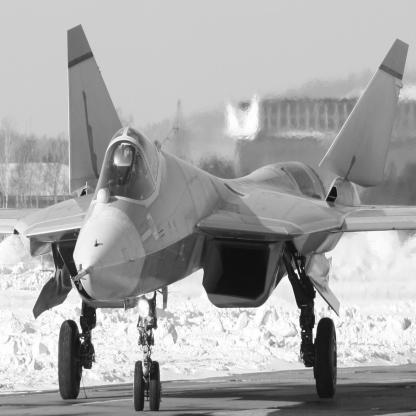Su57: (1, 25, 416, 413)
